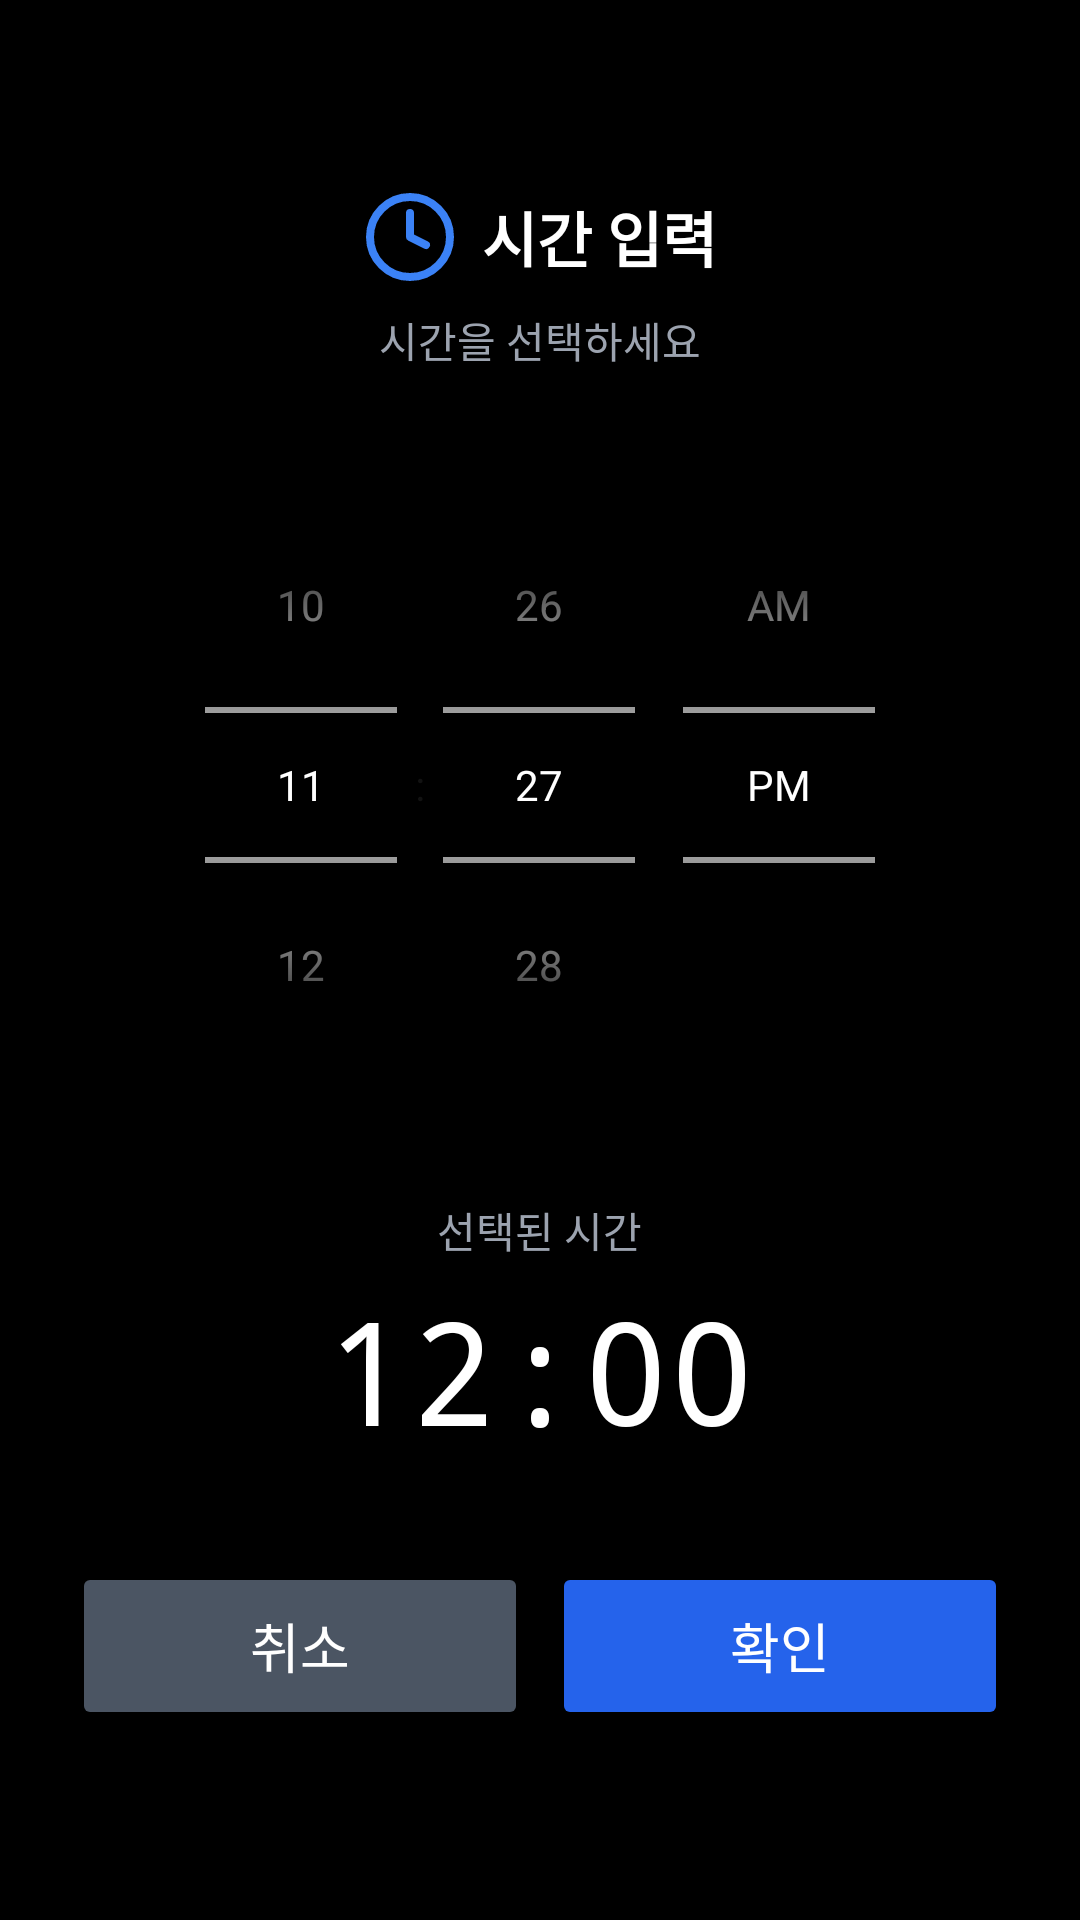

Where to tap for icons on this 1080 × 1920 app screen, as [x,y]:
clock: [410,237]
